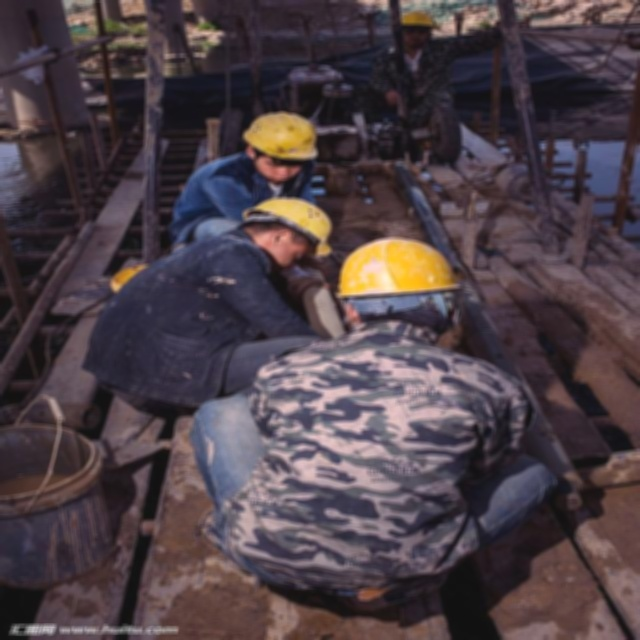Con_Casco: (329, 237, 468, 343)
